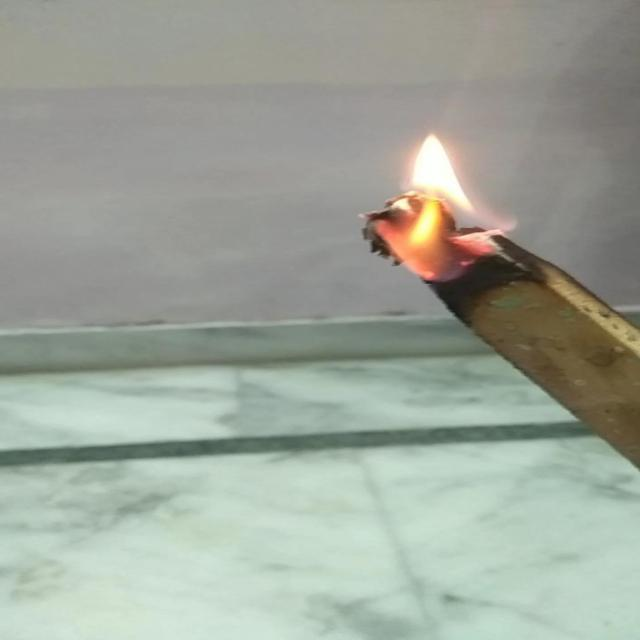smoke: (353, 128, 500, 282)
